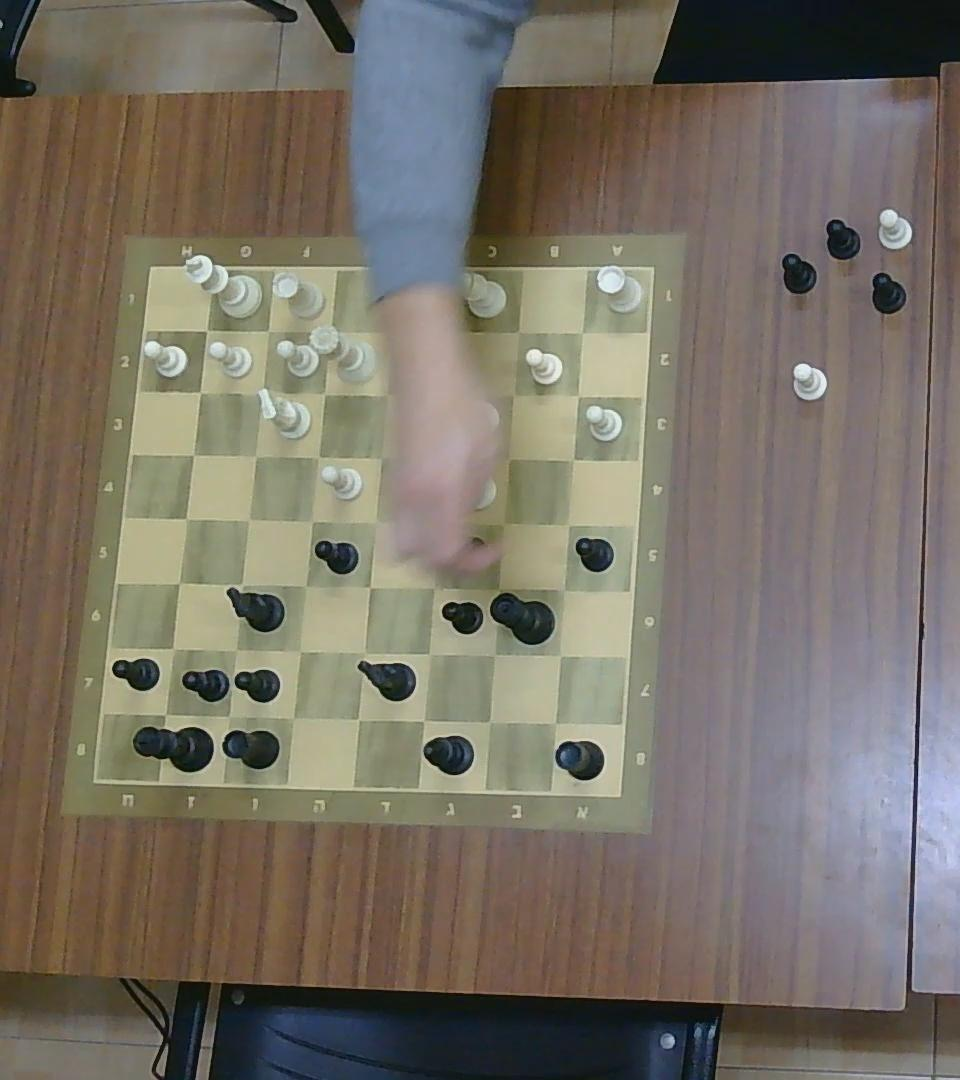xcorner: (378, 319, 405, 348), (215, 701, 241, 729), (280, 703, 305, 731), (443, 318, 468, 346), (160, 634, 185, 661), (474, 709, 501, 734), (317, 319, 342, 345), (153, 701, 178, 726), (287, 638, 311, 664), (412, 707, 436, 733), (541, 710, 567, 734), (195, 317, 219, 343), (346, 706, 370, 731), (547, 642, 572, 666), (349, 639, 374, 663), (167, 570, 191, 594), (229, 573, 253, 597), (482, 642, 505, 666), (551, 577, 575, 600), (419, 642, 442, 666), (364, 509, 387, 533), (437, 385, 459, 410), (174, 506, 197, 529), (181, 442, 204, 465), (566, 383, 589, 406), (238, 507, 260, 531), (245, 443, 267, 467), (224, 637, 246, 661), (257, 318, 279, 342), (251, 379, 273, 403), (422, 575, 444, 599), (376, 383, 398, 406), (491, 512, 514, 534), (359, 576, 381, 598), (428, 512, 450, 534), (562, 448, 584, 469), (488, 576, 509, 598), (433, 447, 453, 470), (509, 320, 530, 341), (503, 384, 524, 405), (295, 574, 315, 596), (301, 510, 321, 532), (189, 380, 209, 402), (558, 513, 578, 535), (572, 321, 592, 343), (370, 446, 390, 468), (498, 448, 518, 469), (308, 446, 327, 467), (315, 383, 334, 403)
